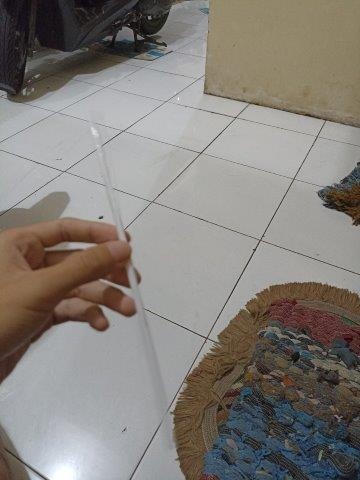sedotan: (87, 114, 171, 445)
